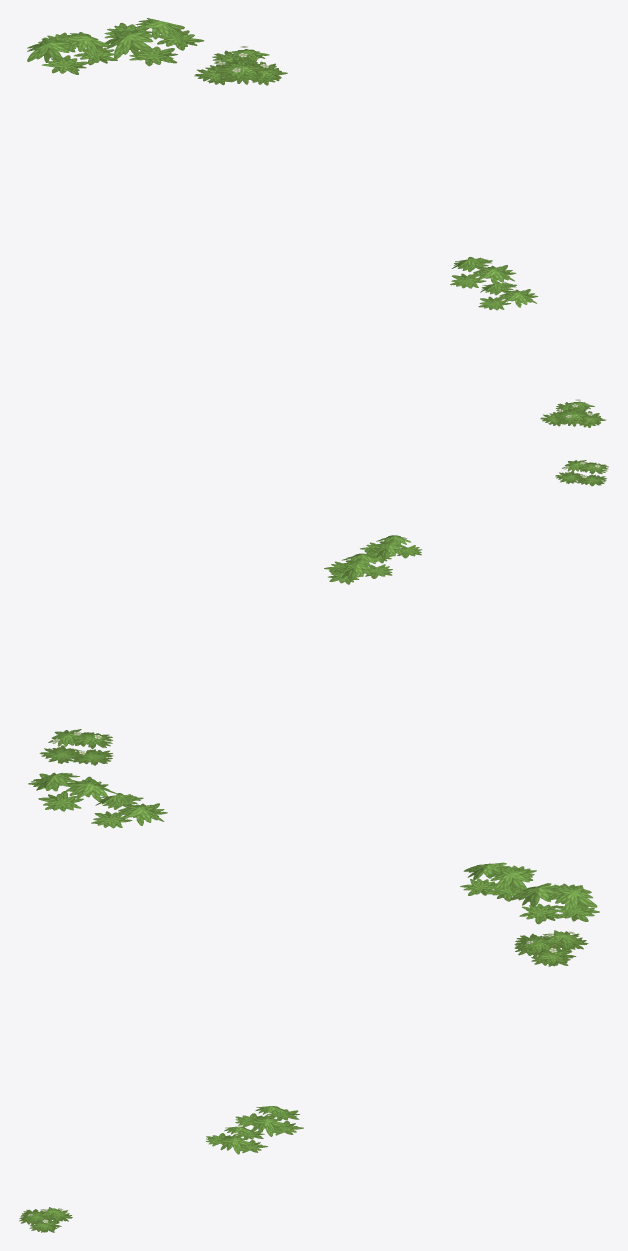
File: Area_08_2.fbx
The picture shows the model from 3 angles, top to bottom: view 1: azimuth 30°, elevation 25°; view 2: azimuth 150°, elevation 25°; view 3: azimuth 330°, elevation 25°; orthographic projection. The views are drawn at different scales.
Parts seen in each view (by area): view 1: Area_08_2; view 2: Area_08_2; view 3: Area_08_2.
Boxes of the visible parts, x1,y1,x2,y2 form: Area_08_2: (27, 18, 606, 427); Area_08_2: (28, 460, 608, 828); Area_08_2: (19, 862, 599, 1232).
Bounding box in the file's own units: 682 × 64.35 × 3206.
